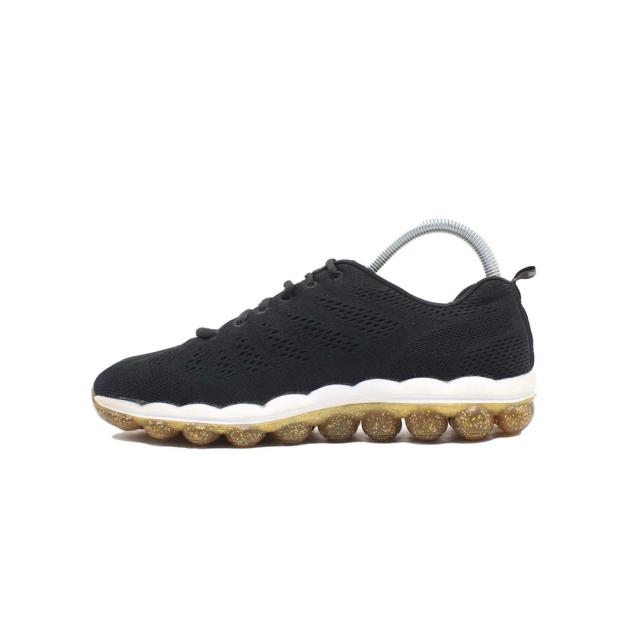heel: (496, 254, 542, 376)
midsole: (100, 394, 552, 439)
uppersole: (93, 254, 490, 381)
